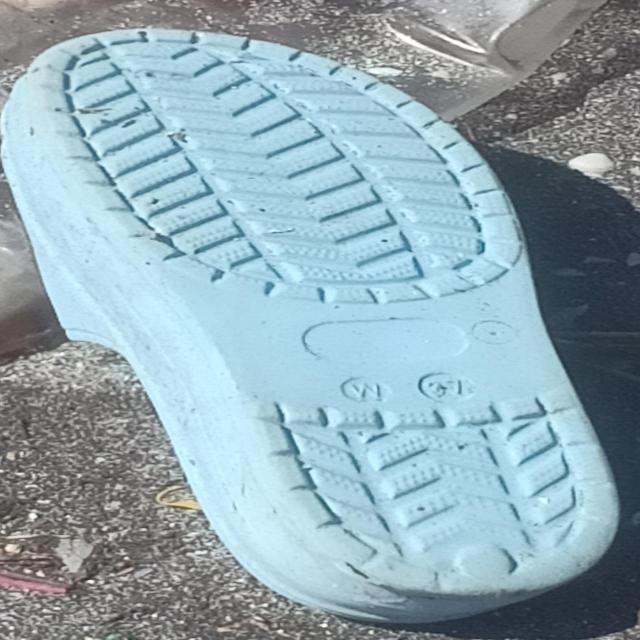rubber_waste: (1, 27, 621, 622)
